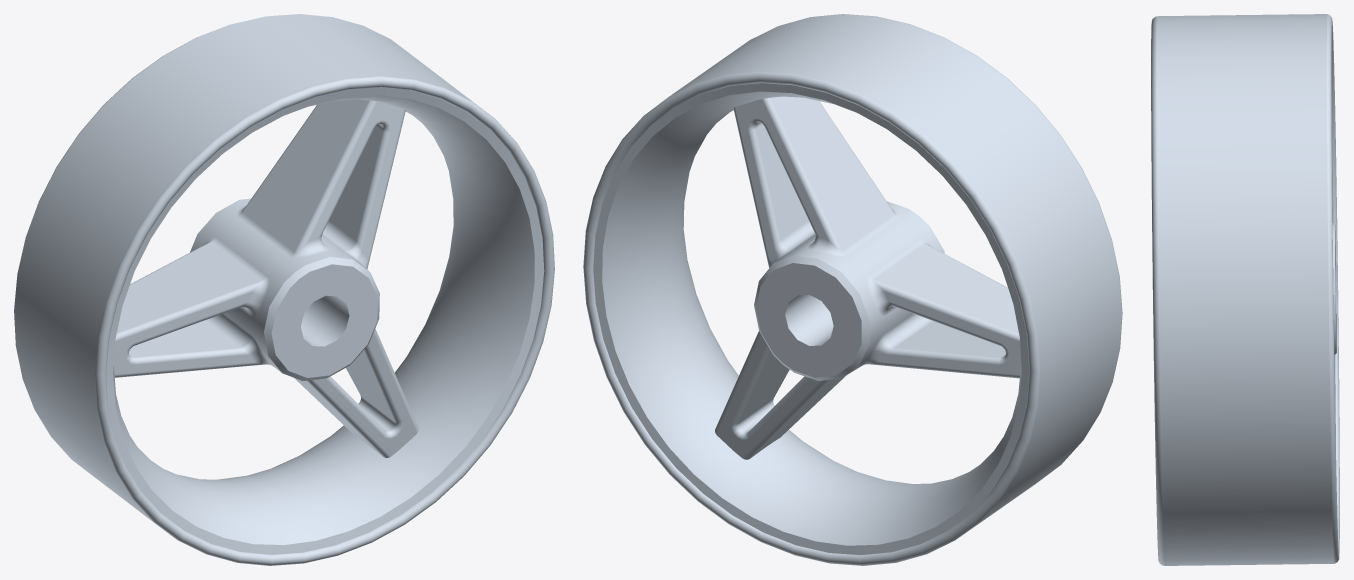
File: RB-031_viewer.glb
The picture shows the model from 3 angles, left to right: view 1: azimuth 30°, elevation 25°; view 2: azimuth 150°, elevation 25°; view 3: azimuth 270°, elevation 25°; orthographic projection. The views are drawn at different scales.
Visible parts, largest first — view 1: basebody_imported1; view 2: basebody_imported1; view 3: basebody_imported1.
Part boxes in pixels (box(x1,y1,x2,y2)): basebody_imported1: box(14, 14, 554, 565); basebody_imported1: box(583, 14, 1122, 565); basebody_imported1: box(1151, 14, 1339, 565).
Bounding box in the file's own units: 0.0279 × 0.028 × 0.00955.
